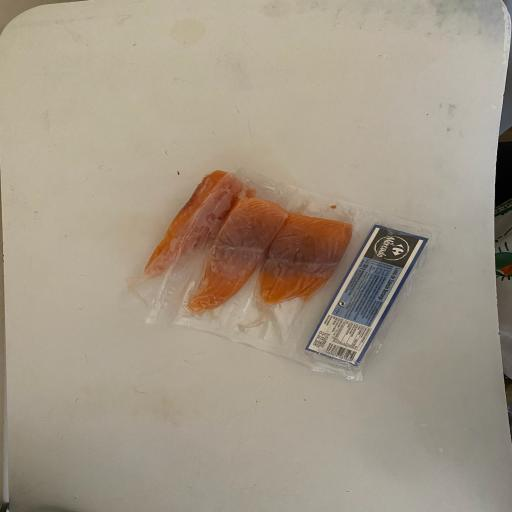salmon: (214, 175, 367, 356), (156, 166, 306, 336), (138, 142, 259, 298)
